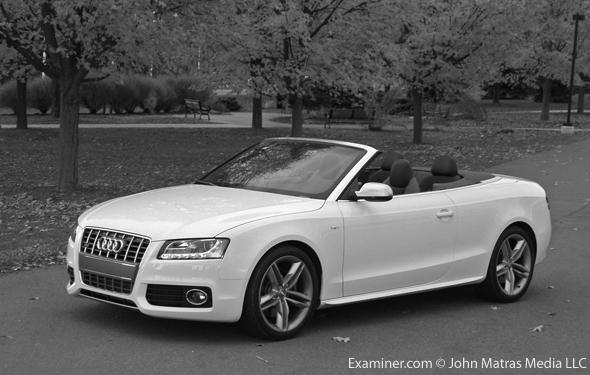car: (64, 130, 554, 341)
